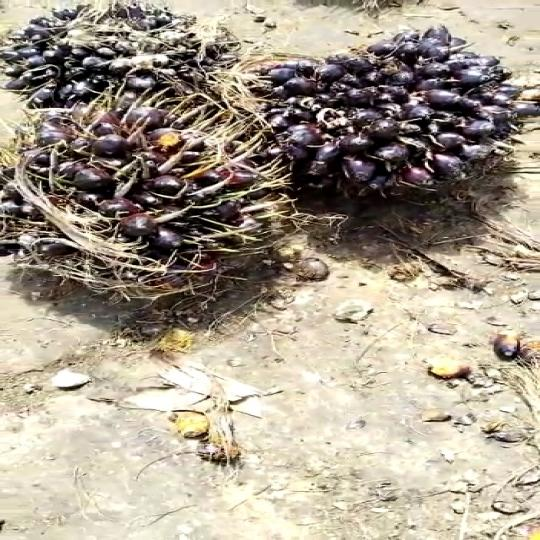mentah: (0, 98, 327, 331), (253, 20, 540, 199), (0, 0, 237, 115)
